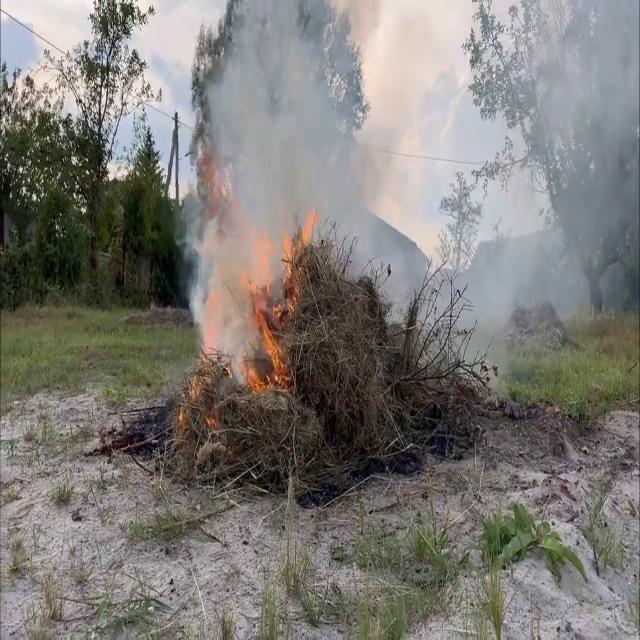Fire: (238, 208, 317, 396)
Smoke: (181, 0, 639, 352)
